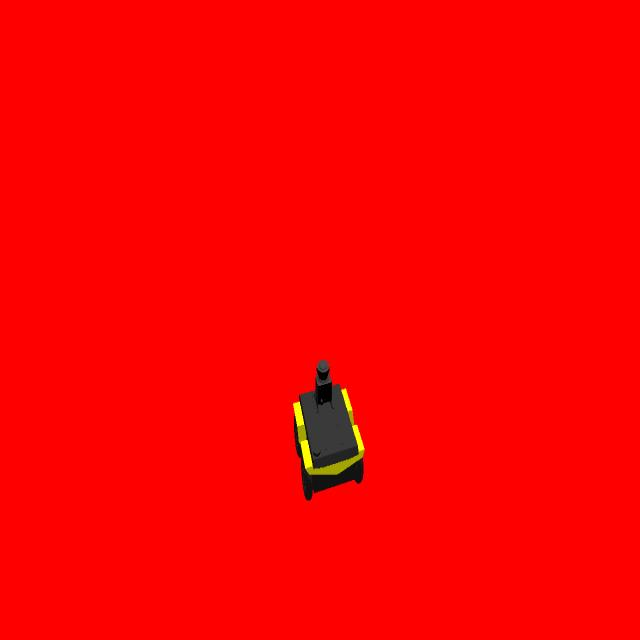jackal: (292, 357, 363, 501)
